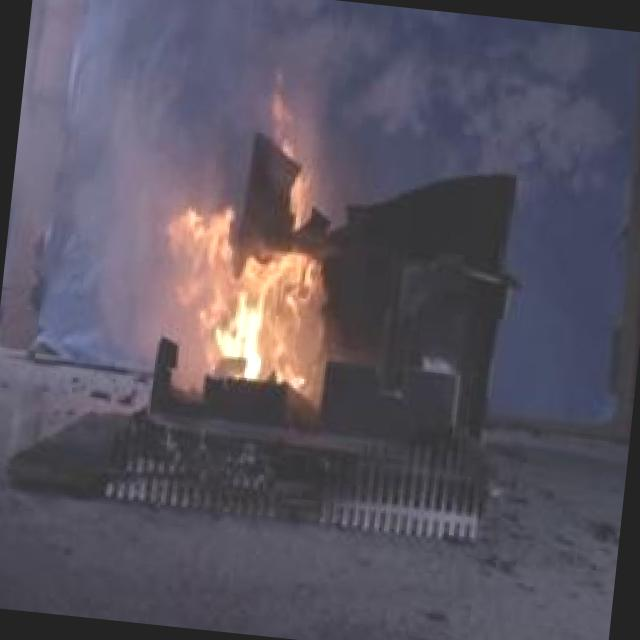fire: (156, 168, 344, 416)
